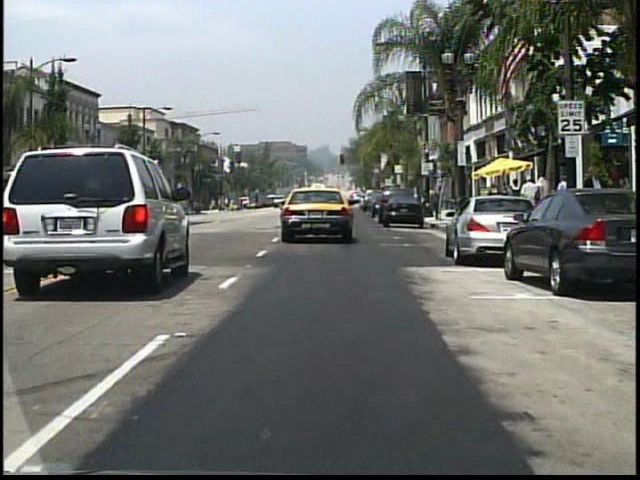person: (582, 165, 609, 238), (520, 174, 540, 225), (535, 175, 553, 220), (556, 174, 572, 217), (508, 178, 523, 219), (254, 192, 262, 207)
